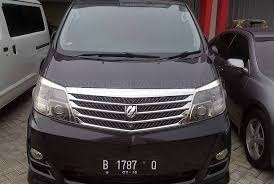plate: (101, 157, 159, 177)
